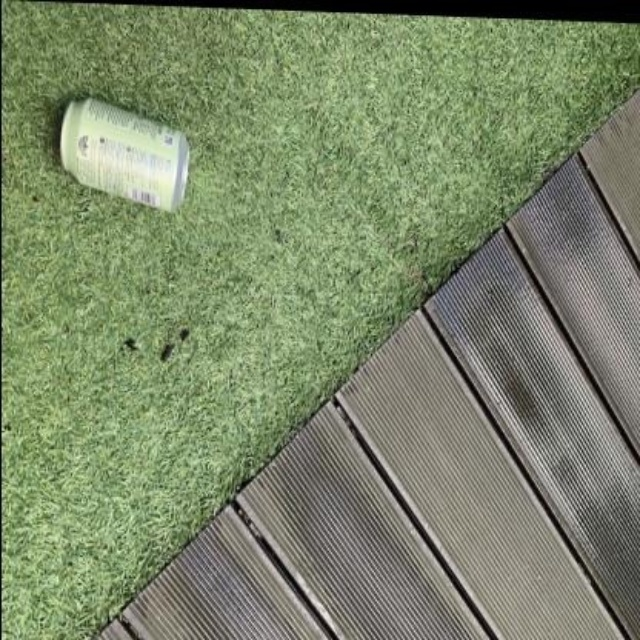trash: (60, 98, 188, 209)
